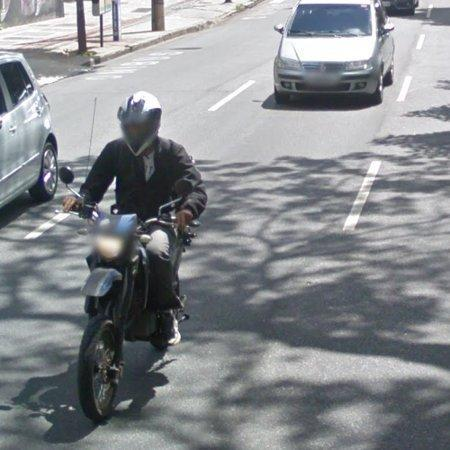motorcycles: (67, 192, 193, 423)
